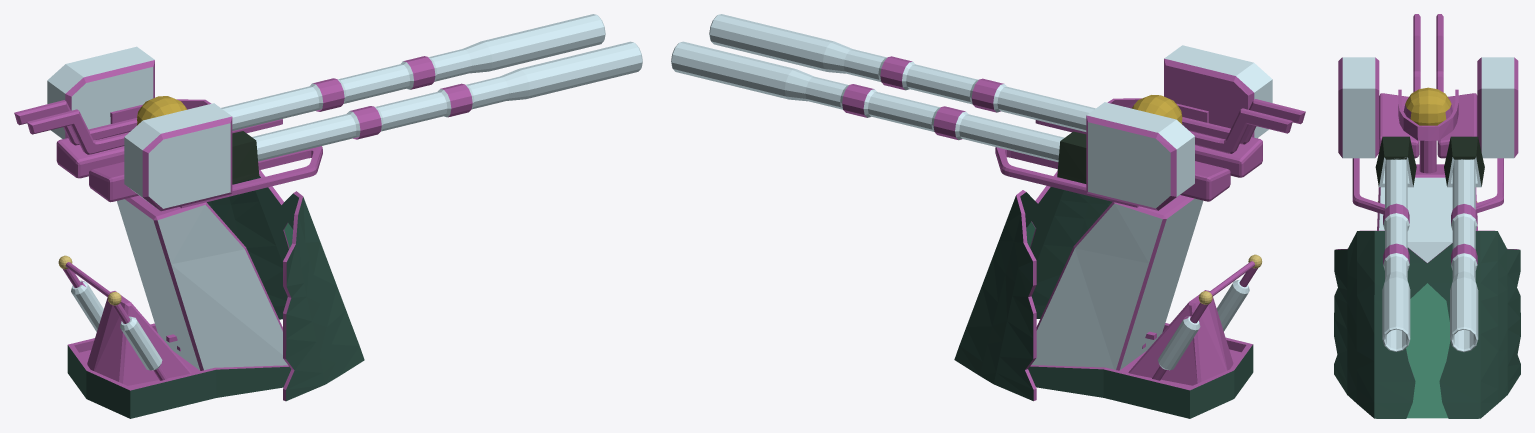
File: Turret-Type1-2.fbx
3 renders of one model, left to right at view 1: azimuth 30°, elevation 25°; view 2: azimuth 150°, elevation 25°; view 3: azimuth 270°, elevation 25°, orthographic. The views are drawn at different scales.
Parts seen in each view (by area): view 1: auto_turret:attack, auto_turret5:base; view 2: auto_turret:attack, auto_turret5:base; view 3: auto_turret5:base, auto_turret:attack.
Boxes of the visible parts, <box> form: auto_turret:attack: <box>14,14,642,211</box>; auto_turret5:base: <box>58,170,364,418</box>; auto_turret:attack: <box>671,14,1305,210</box>; auto_turret5:base: <box>954,171,1262,418</box>; auto_turret5:base: <box>1334,164,1520,418</box>; auto_turret:attack: <box>1338,14,1518,352</box>.
Size of the model in its own units: 115 by 54.5 by 34.5.
